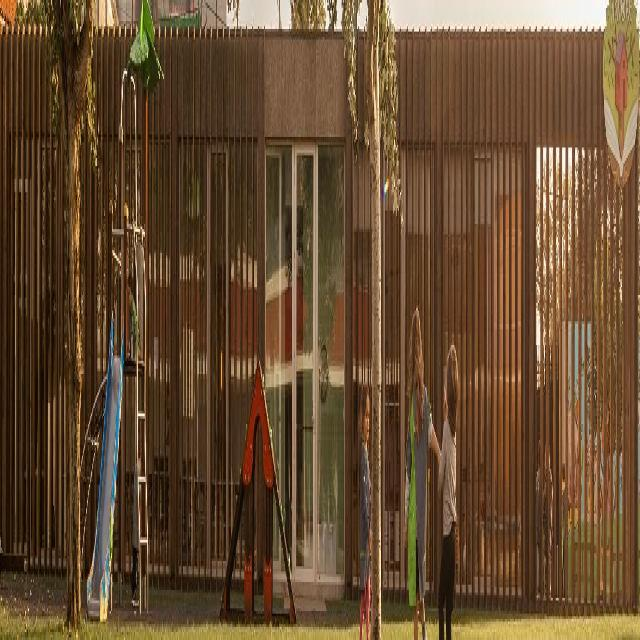door: (264, 147, 346, 593)
plant: (346, 27, 405, 618)
wall: (2, 31, 638, 609)
